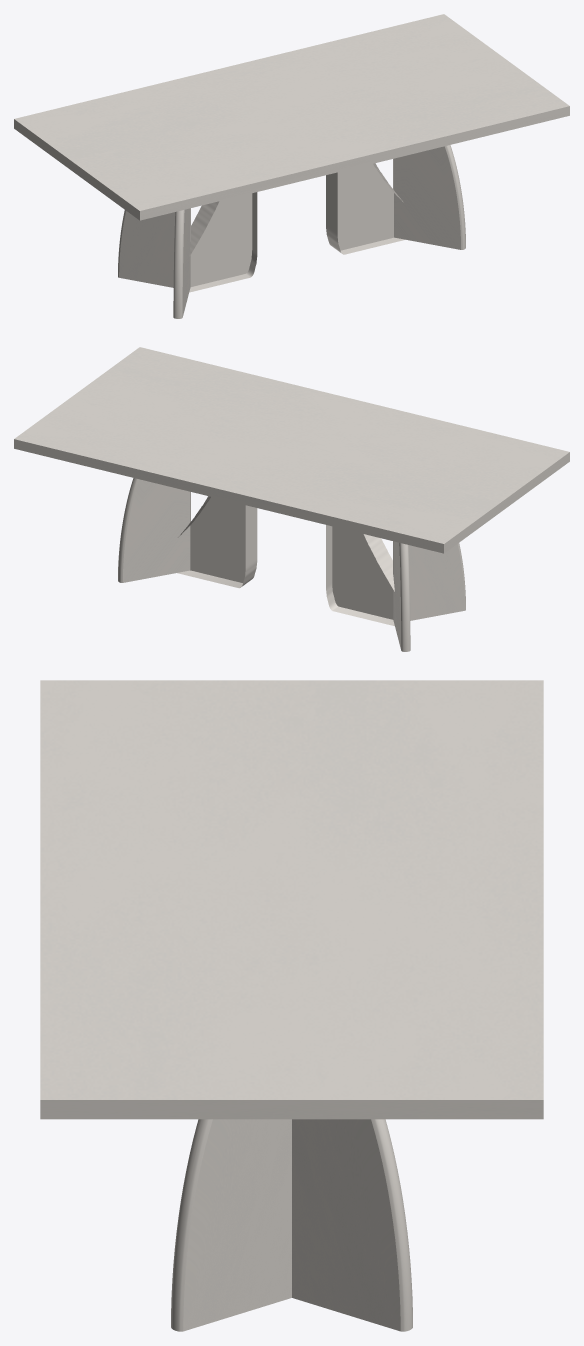
The model's file is pearlwhite_recta_standard_plane.glb.
The picture shows the model from 3 angles, top to bottom: view 1: azimuth 30°, elevation 25°; view 2: azimuth 150°, elevation 25°; view 3: azimuth 270°, elevation 25°; orthographic projection. The views are drawn at different scales.
Visible parts, largest first — view 1: standard_recta, plane_singleright2, plane_single1, plane_single2, plane_singleleft1, plane_singleright1; view 2: standard_recta, plane_singleleft2, plane_single1, plane_single2, plane_singleright1, plane_singleleft1; view 3: standard_recta, plane_singleleft2, plane_singleright2.
Part boxes in pixels (x1,y1,x2,y2): standard_recta: (14,14,569,220); plane_singleright2: (393,145,465,249); plane_single1: (189,192,257,292); plane_single2: (326,163,405,254); plane_singleleft1: (118,208,190,287); plane_singleright1: (173,208,190,318); standard_recta: (14,347,569,553); plane_singleleft2: (118,478,190,582); plane_single1: (326,525,394,626); plane_single2: (177,496,257,588); plane_singleright1: (393,541,465,620); plane_singleleft1: (393,541,410,651); standard_recta: (40,680,543,1119); plane_singleleft2: (292,1119,412,1331); plane_singleright2: (171,1119,291,1331).
Size of the model in its own units: 7.5 by 2.49 by 3.8.
1 material, 1 textured.
